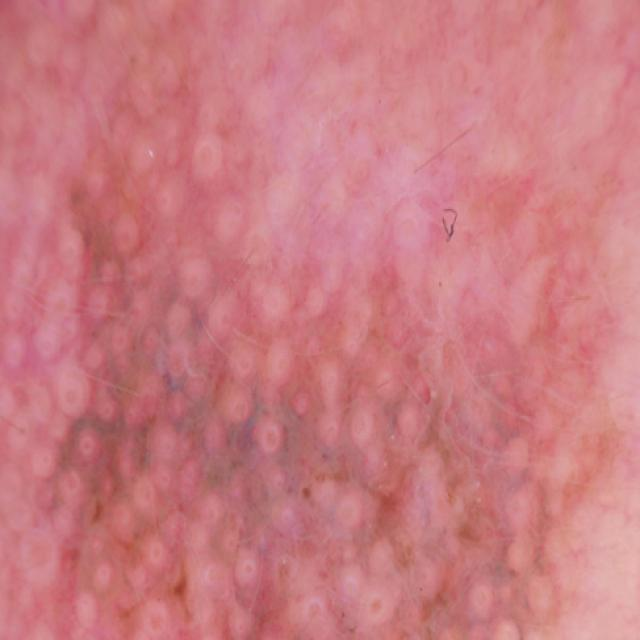Melanoma: (55, 99, 580, 640)
